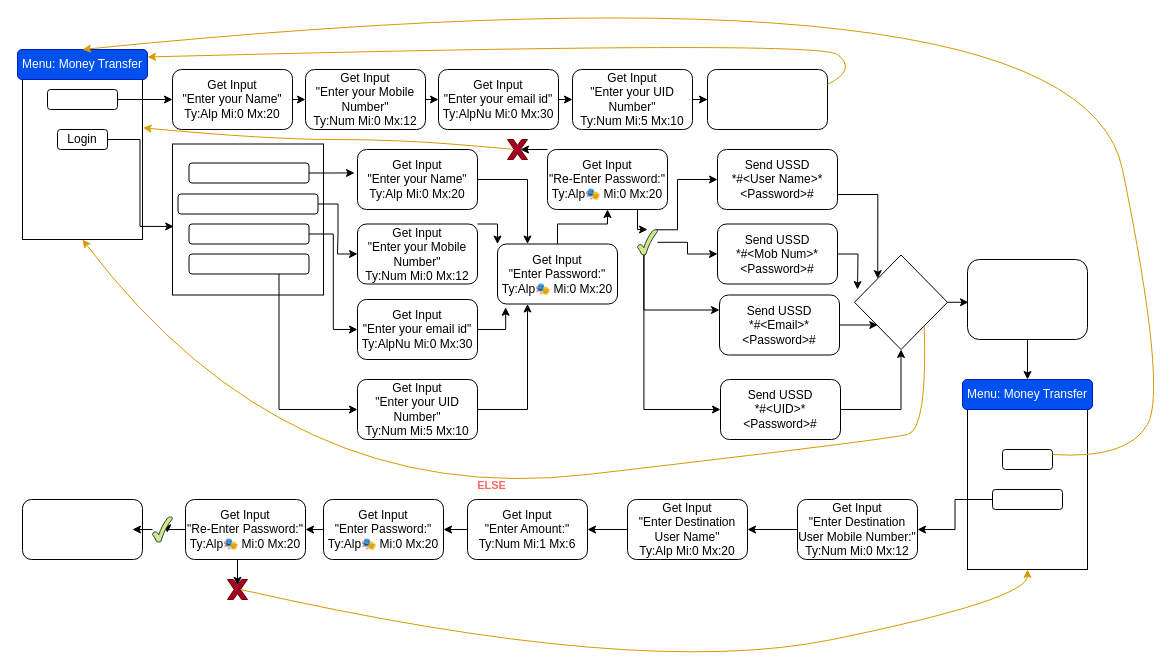
This 1172x669 diagram has some shape labels left out. The shapes that lost their labels are listed below. From the top down, each one's centre as x and y in pixels, then its label:
[82,99]: Register
[767,99]: Send USSD *#<Mob Num>*<User Name>*<UID>#
[248,172]: Login via User name
[247,203]: Login via Mobile number
[248,233]: Login via email id
[248,263]: Login via UID
[901,302]: Server Response: SUCCESS
[1027,299]: Login => Logout Hide Register Menu Unhide Send Money
[1027,459]: Logout
[1027,499]: Send Money
[82,529]: Send SMS to 5525: <Dest Mob Num>;<Dest User Name>;<Amount>
